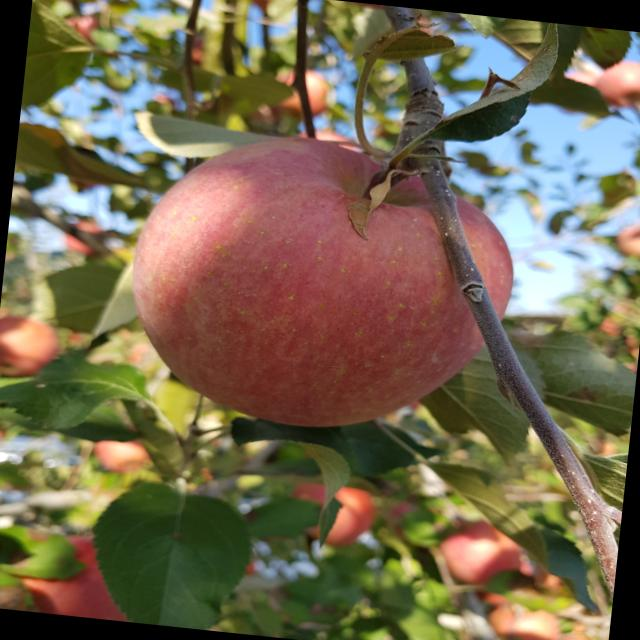fresh: (108, 109, 544, 459)
